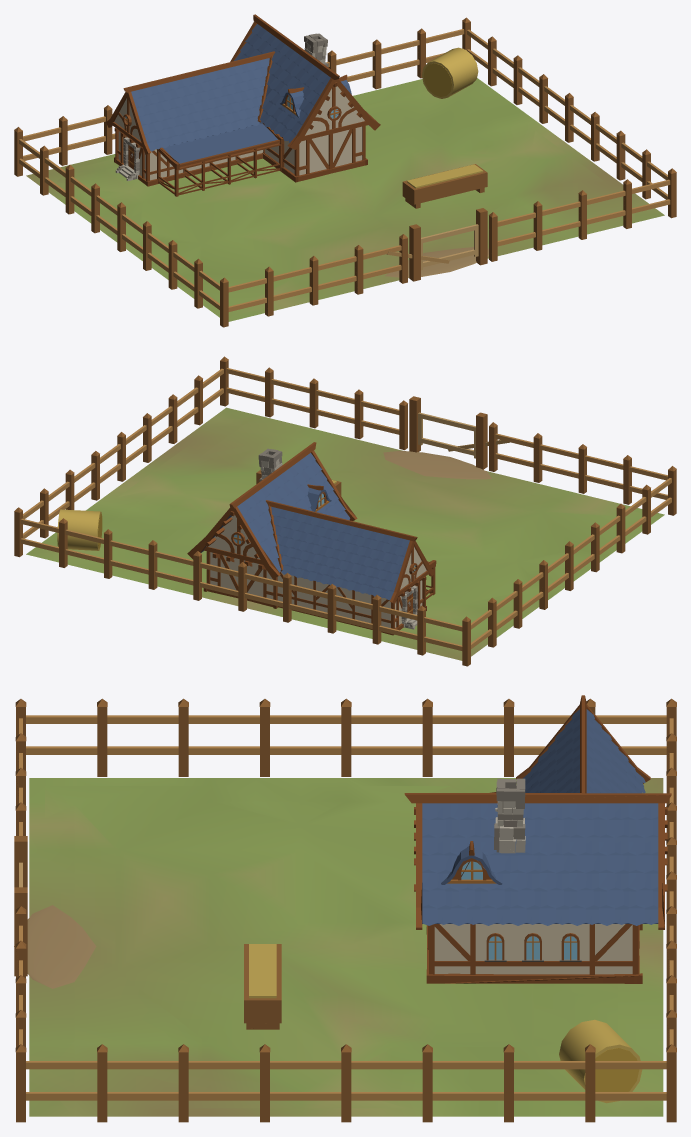
Rendered from stable-g1.glb.
The picture shows the model from 3 angles, top to bottom: view 1: azimuth 30°, elevation 25°; view 2: azimuth 150°, elevation 25°; view 3: azimuth 270°, elevation 25°; orthographic projection. The views are drawn at different scales.
Visible parts, largest first — view 1: home-stable-g1, home-stable-g1-far; view 2: home-stable-g1, home-stable-g1-far; view 3: home-stable-g1, home-stable-g1-far.
Boxes of the visible parts, <box> form: home-stable-g1: <box>14,14,676,327</box>; home-stable-g1-far: <box>27,27,662,315</box>; home-stable-g1: <box>14,356,676,666</box>; home-stable-g1-far: <box>66,398,642,660</box>; home-stable-g1: <box>14,695,676,1122</box>; home-stable-g1-far: <box>14,709,668,1115</box>.
Size of the model in its own units: 9.93 by 2.4 by 7.95.
